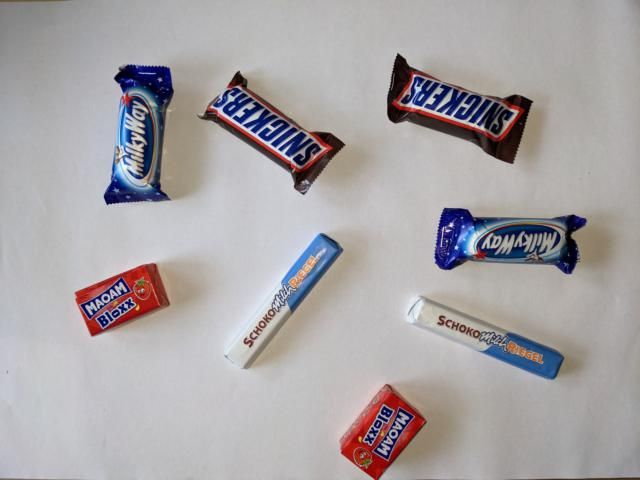MAOAM: (336, 379, 430, 480), (72, 260, 173, 339)
MilkyWay: (431, 205, 589, 277), (101, 63, 177, 208)
Schokoriegel: (219, 229, 346, 374), (400, 290, 567, 384)
Snickers: (194, 68, 349, 197), (383, 50, 536, 167)
